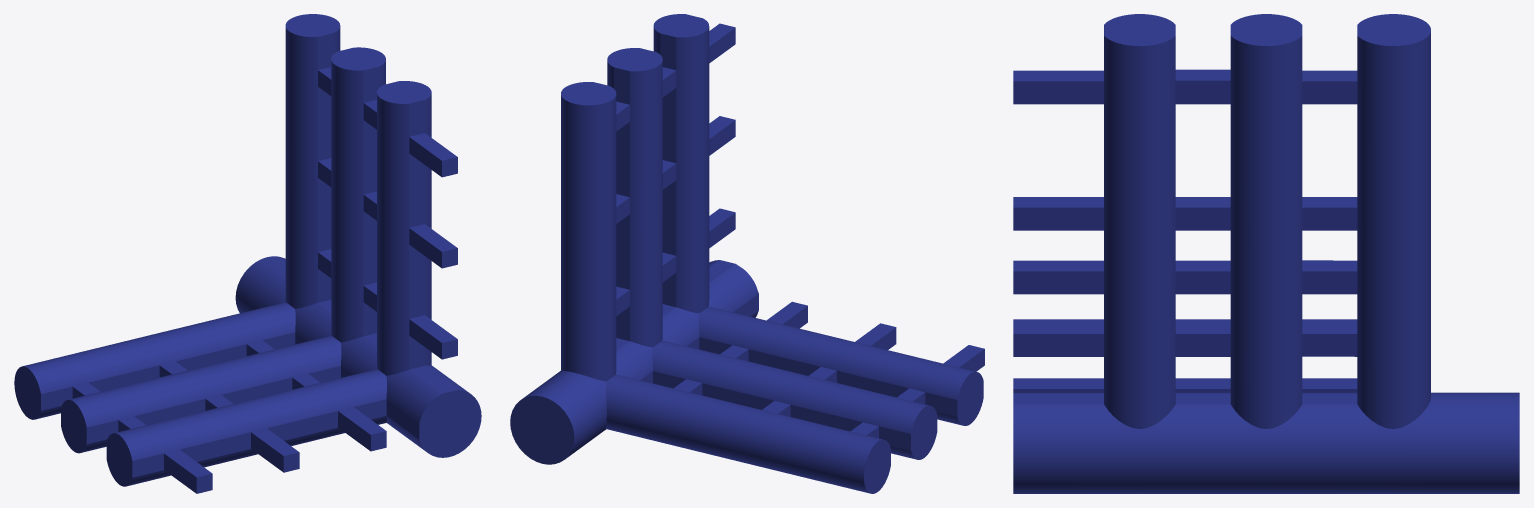
Rendered from Railing_cornor(Horror_game) v3.fbx.
3 views of the same model, side by side, from view 1: azimuth 30°, elevation 25°; view 2: azimuth 150°, elevation 25°; view 3: azimuth 270°, elevation 25° (orthographic). The views are drawn at different scales.
Visible parts, largest first — view 1: Body1; view 2: Body1; view 3: Body1.
Part boxes in pixels (bbox=[...]): Body1: bbox=[14, 14, 481, 493]; Body1: bbox=[510, 14, 984, 493]; Body1: bbox=[1013, 14, 1519, 493].
Bounding box in the file's own units: 1000 × 1000 × 1000.
